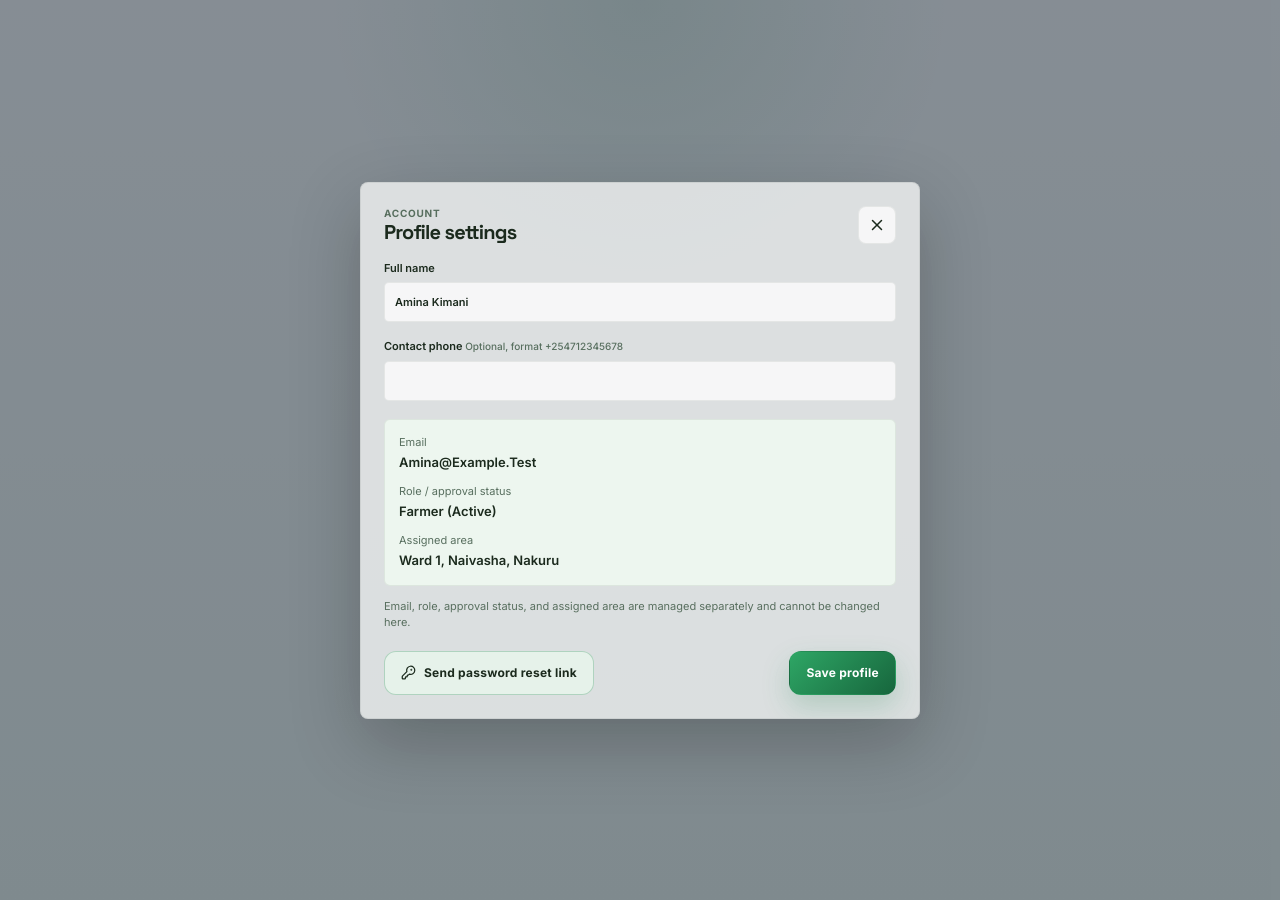
Test: ProfileSettings › sends a non-enumerating password reset link to the signed-in account email
The width and height of the screenshot is (1280, 900).
Click the button "Send password reset link" at (489, 672), box x1=384 y1=650 x2=594 y2=694
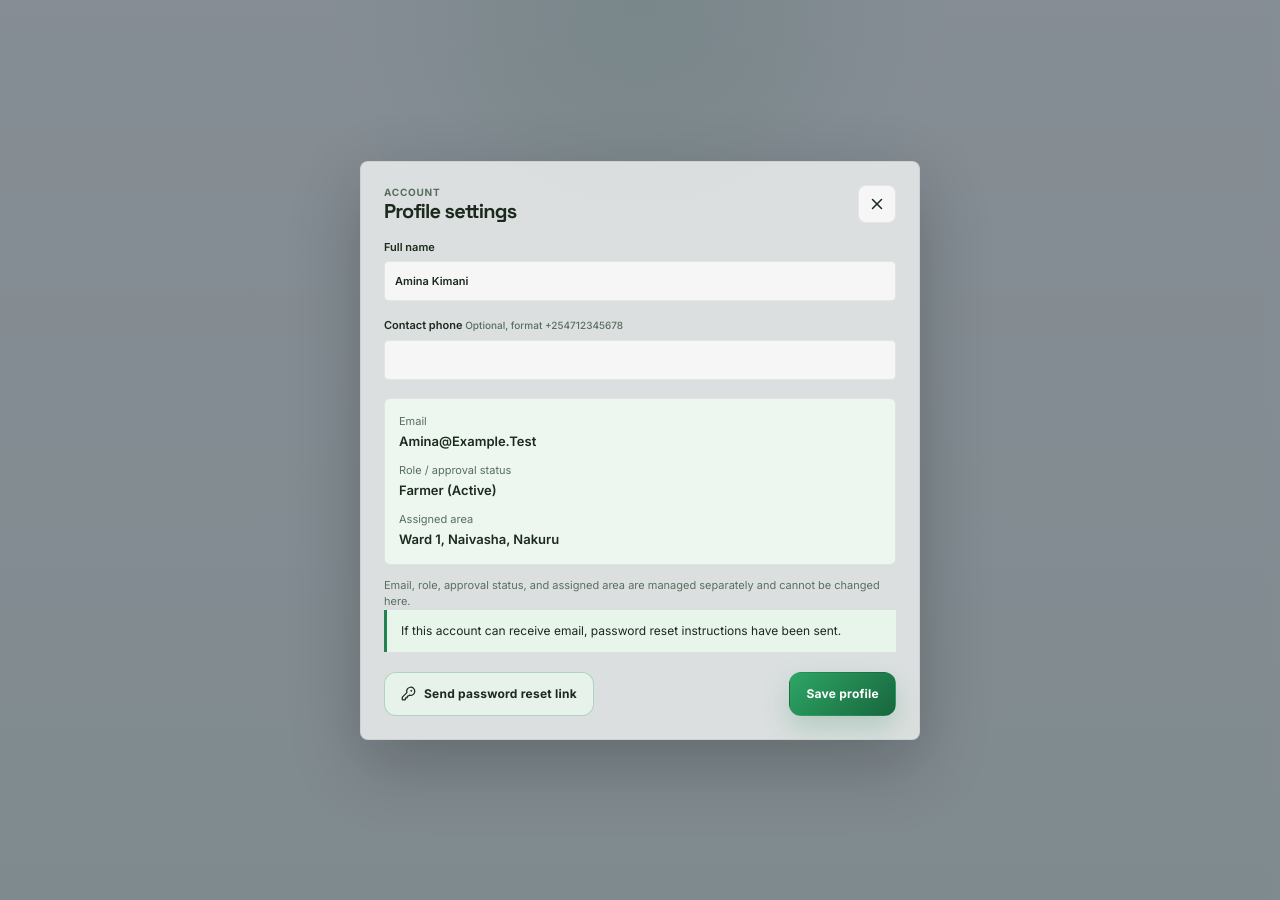
Check: the message reads "If this account can receive email, password reset instructions have been sent.", box x1=401 y1=622 x2=841 y2=638
